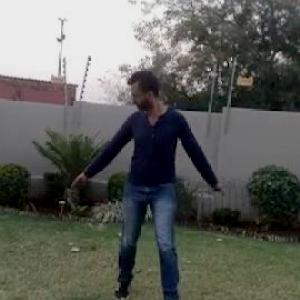land: (79, 68, 238, 299)
